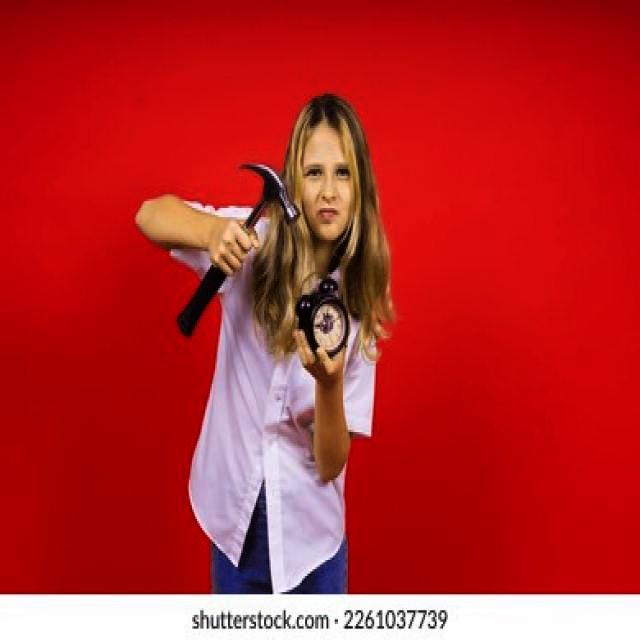hammer: (167, 152, 302, 353)
